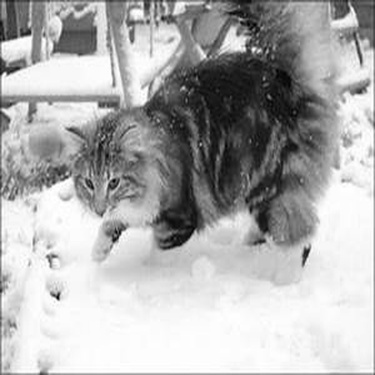cat: (66, 7, 343, 283)
